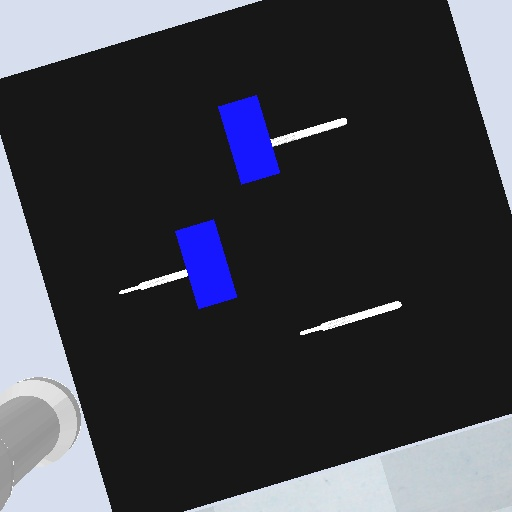bisturi: (297, 297, 406, 339), (268, 115, 349, 148), (117, 267, 190, 297)
